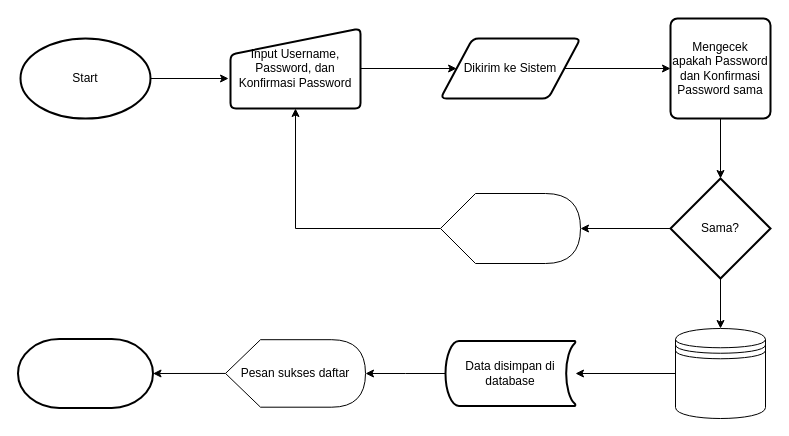
This 789x436 diagram has some shape labels left out. Here are the shapes that lost their labels. From the top down, the centre of each, then its label:
At (x=510, y=228): "Error, Password & Konfirmasi Password Berbeda".
At (x=85, y=373): "End".
At (x=720, y=373): "Username dan Password dikirim ke database".
